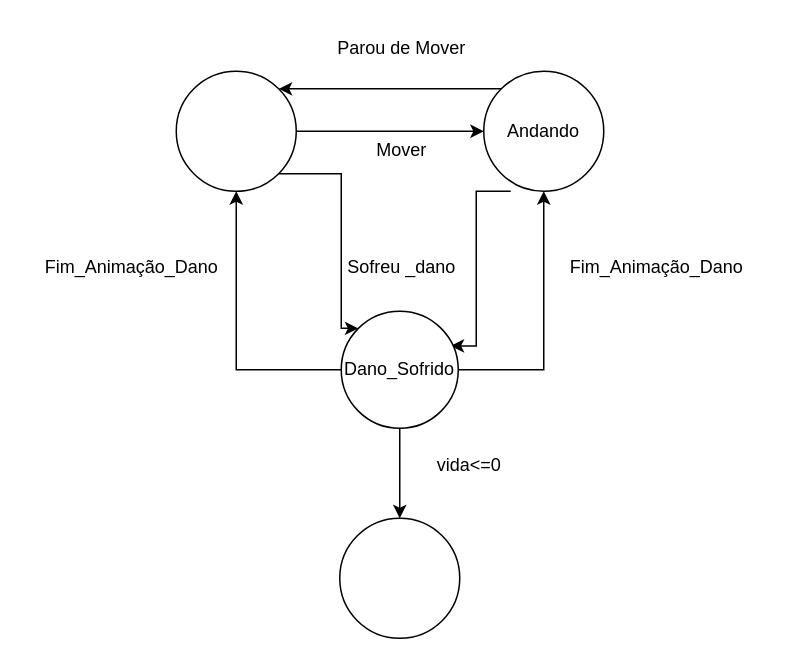
This 786x665 diagram has some shape labels left out. The shapes that lost their labels are listed below. From the top down, each one's centre as x and y in pixels, then its label:
point 235,130: Parado
point 399,577: Fim_de_Jogo
